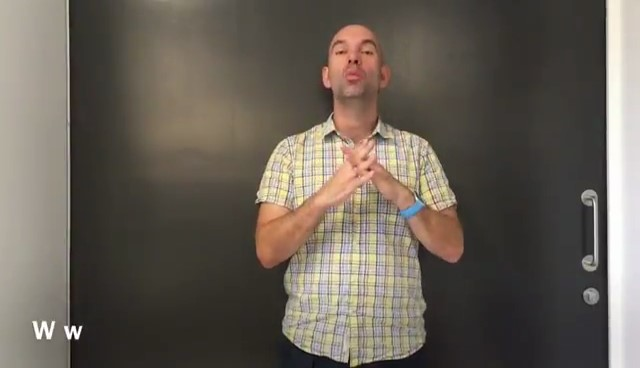W: (309, 129, 410, 218)
